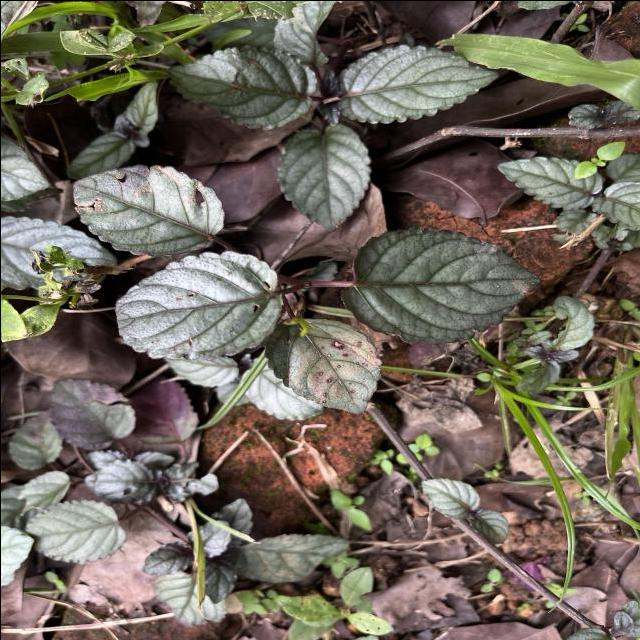Hemigraphis colorata: (338, 223, 544, 347), (111, 248, 286, 366), (69, 162, 229, 258), (159, 41, 322, 132), (332, 40, 500, 124), (260, 315, 384, 416), (274, 118, 374, 236), (22, 497, 127, 566), (493, 154, 604, 212)
